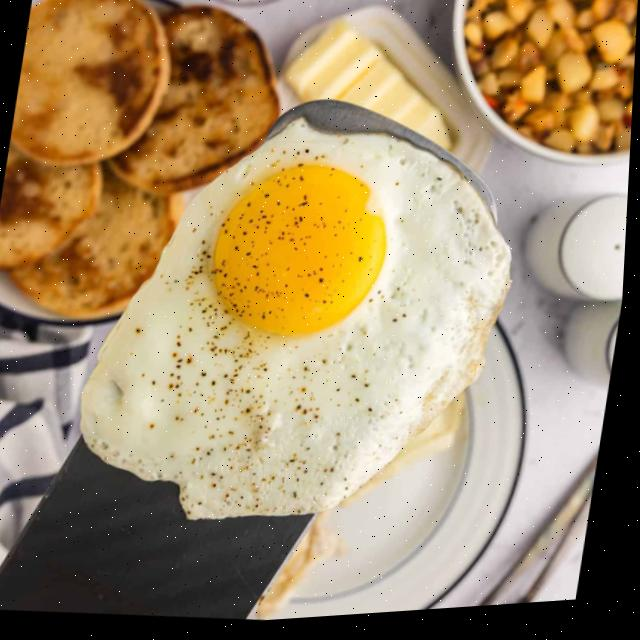Egg: (86, 124, 513, 522)
